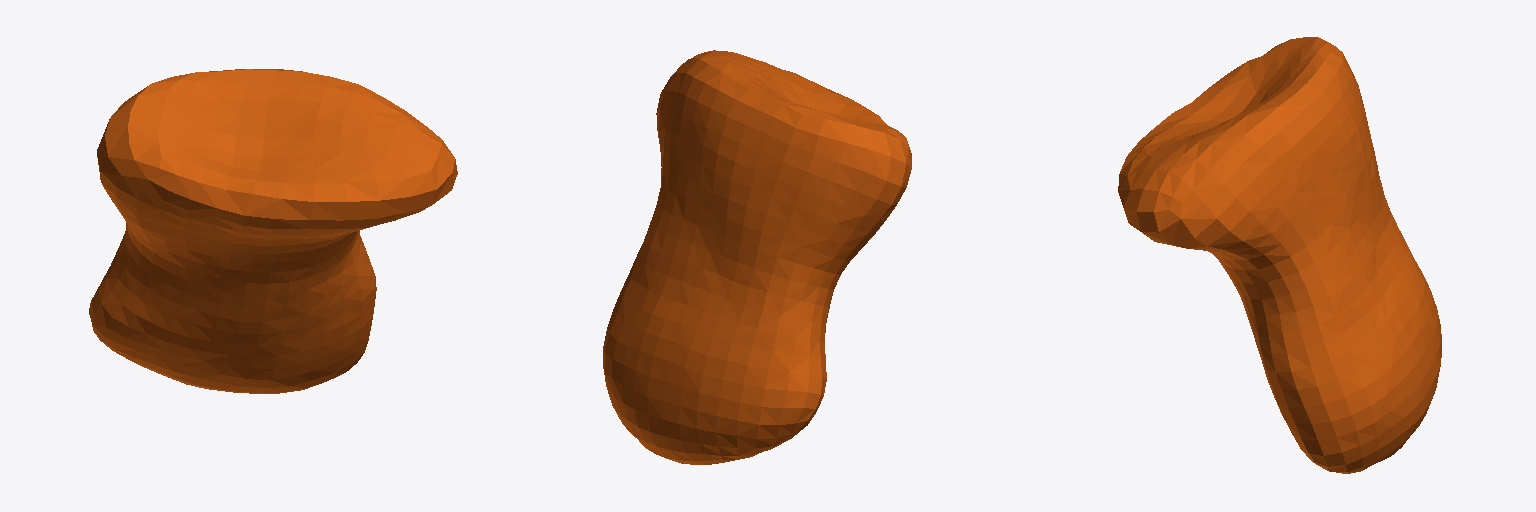
Rendered from DistalPhalanx_4.obj.
The picture shows the model from 3 angles: view 1: azimuth 30°, elevation 25°; view 2: azimuth 150°, elevation 25°; view 3: azimuth 270°, elevation 25°; orthographic projection.
Parts seen in each view (by area): view 1: Object_0DistalPhalanx_4; view 2: Object_0DistalPhalanx_4; view 3: Object_0DistalPhalanx_4.
Part boxes in pixels (x1,y1,x2,y2): Object_0DistalPhalanx_4: (89,69,457,393); Object_0DistalPhalanx_4: (603,50,911,464); Object_0DistalPhalanx_4: (1118,37,1441,473).
Bounding box in the file's own units: 10.12 × 11.8 × 9.81.